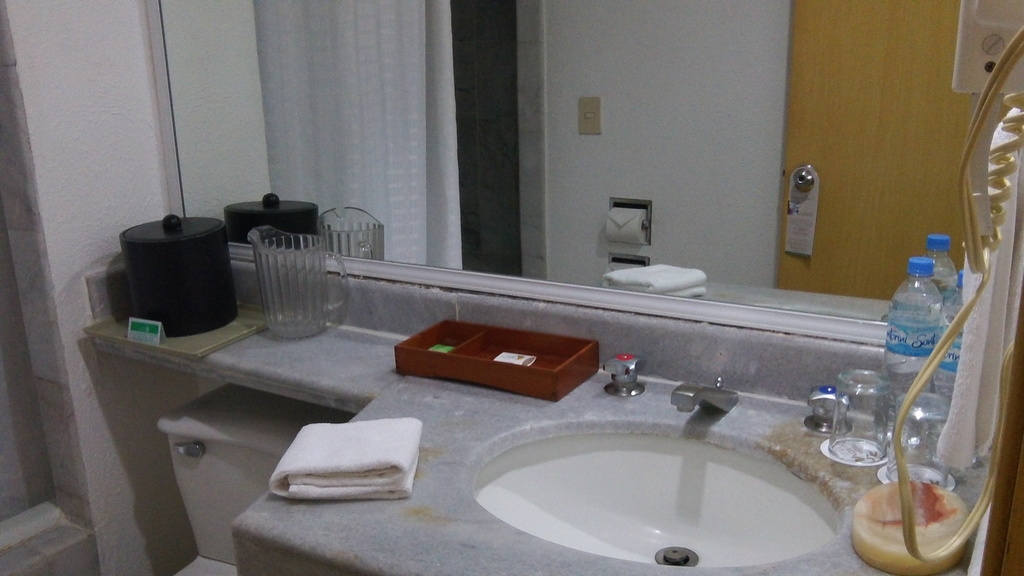tap: (671, 383, 741, 410)
